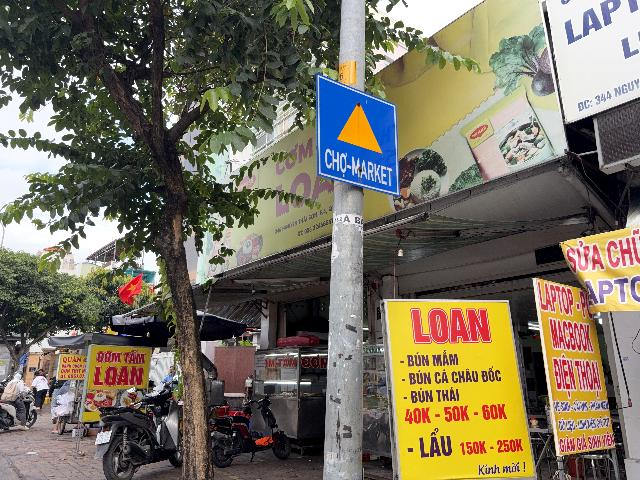khu-vuc-cho-phia-truoc: (316, 72, 400, 196)
